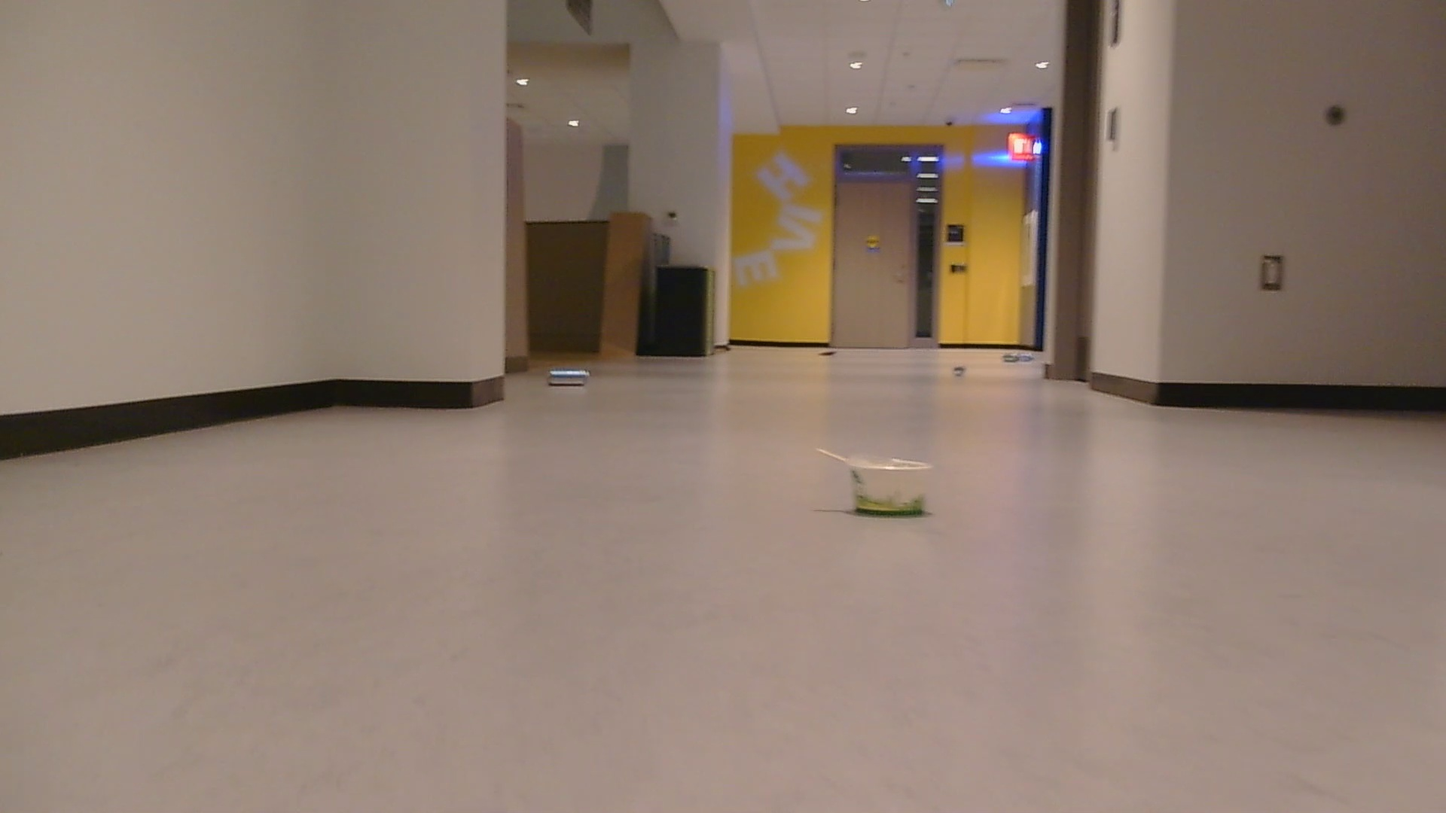carton: (831, 437, 945, 520), (539, 361, 609, 397), (1003, 340, 1032, 374), (806, 346, 842, 369), (947, 360, 966, 380)
